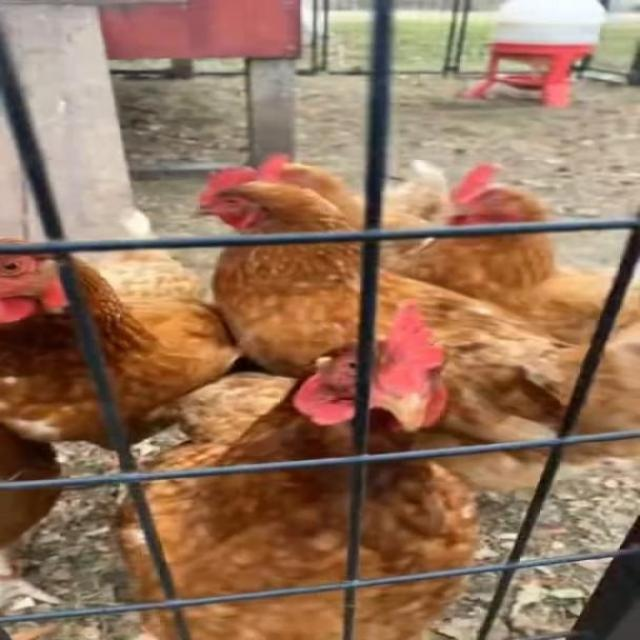Chicken: (188, 164, 640, 459), (111, 300, 484, 640), (0, 210, 229, 497), (173, 377, 592, 493), (379, 164, 640, 349), (249, 153, 448, 259), (0, 427, 66, 609)
